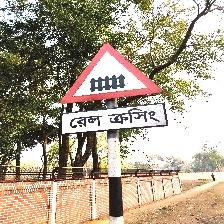Rail-crossing: (58, 42, 168, 137)
